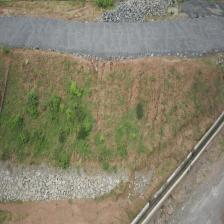rock toe: (0, 167, 121, 201), (97, 0, 177, 22)
